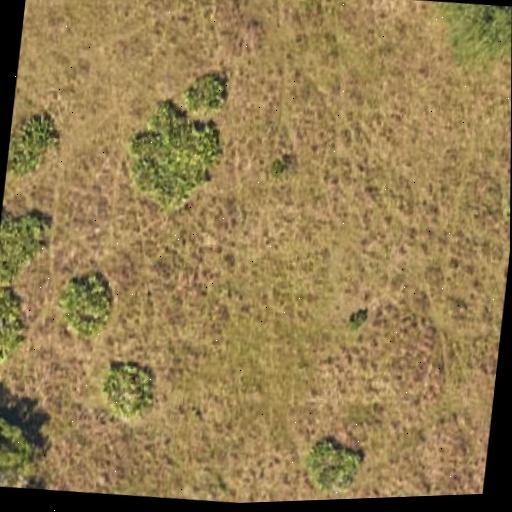tree-top: (119, 95, 222, 215), (426, 0, 512, 71), (295, 424, 375, 499), (52, 263, 122, 347), (86, 353, 163, 429), (6, 101, 71, 182), (0, 200, 58, 285), (0, 403, 47, 491), (181, 65, 239, 122), (0, 289, 34, 357), (499, 163, 511, 247)
